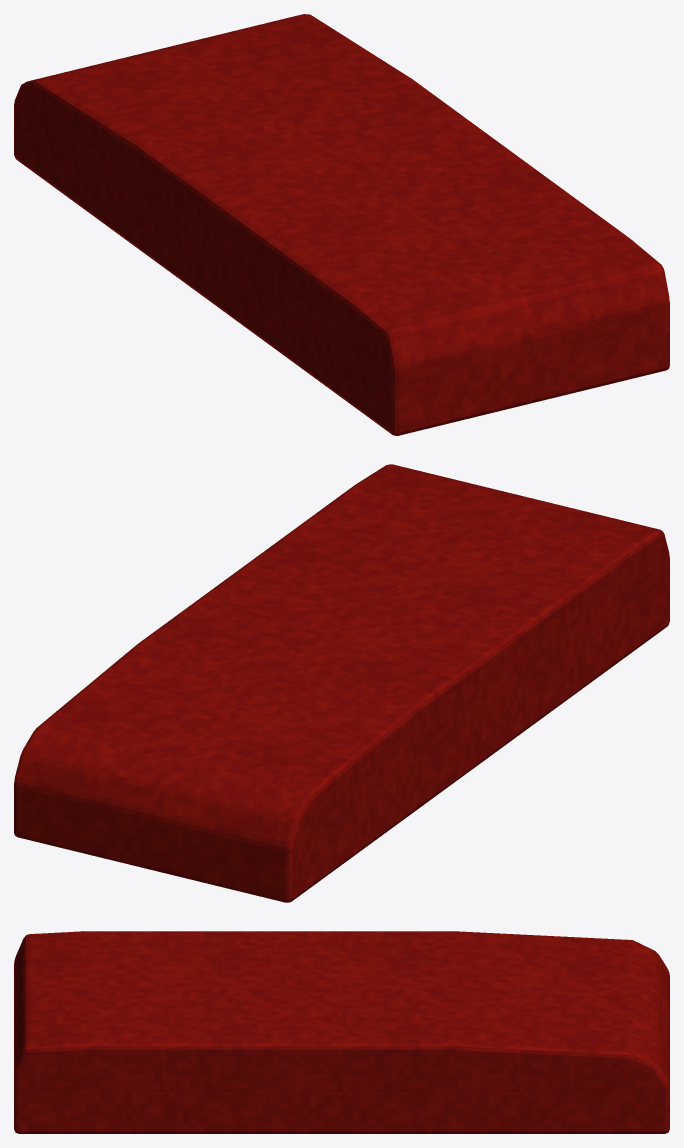
Rendered from Car_Body.obj.
3 renders of one model, top to bottom at view 1: azimuth 30°, elevation 25°; view 2: azimuth 150°, elevation 25°; view 3: azimuth 270°, elevation 25°, orthographic. The views are drawn at different scales.
Size of the model in its own units: 1.72 by 0.62 by 4.1.
1 material, 1 textured.
